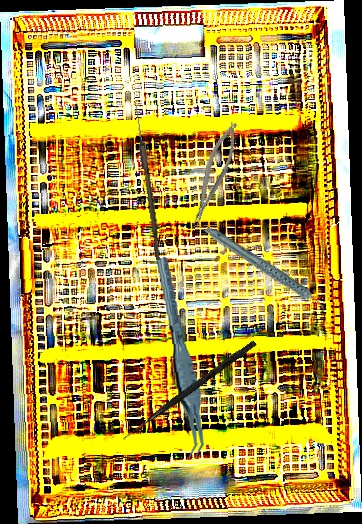Handpiece: (203, 205, 328, 335)
Hook Surgical: (121, 338, 257, 444)
Needle Holder: (182, 119, 246, 229)
Surgical Spoon: (131, 101, 164, 261)
Tissue Forceps: (154, 255, 207, 461)
